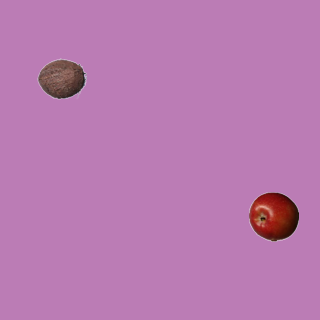Apple Braeburn: (248, 191, 298, 241)
Cocos: (36, 53, 86, 103)
